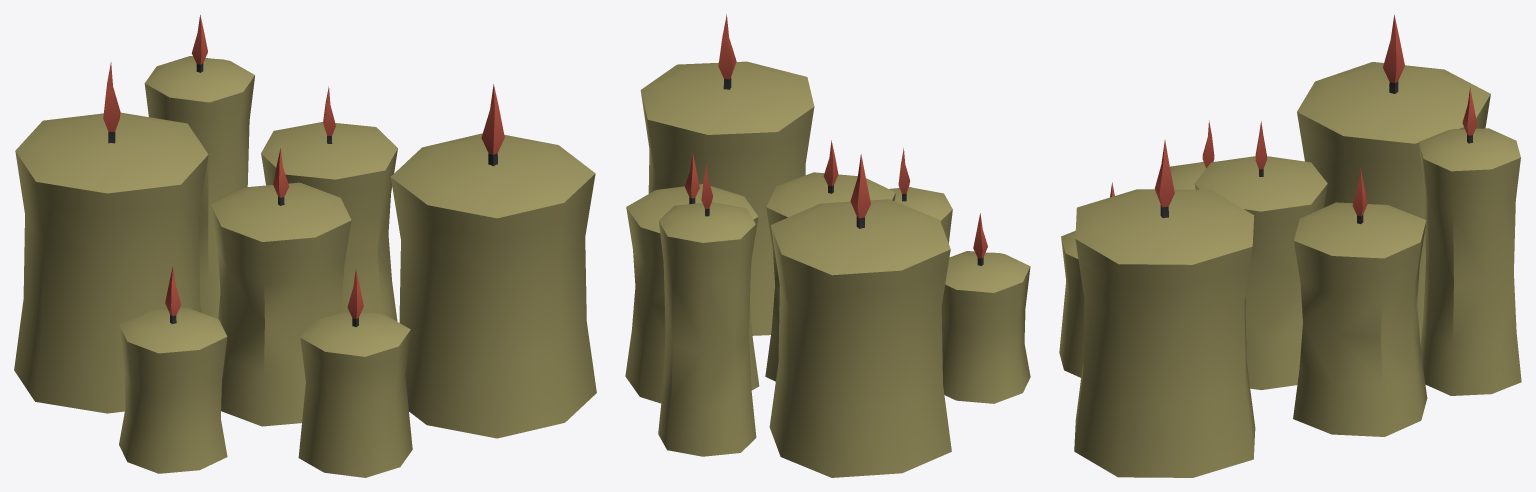
Rendered from Candles_1.glb.
The picture shows the model from 3 angles, left to right: view 1: azimuth 30°, elevation 25°; view 2: azimuth 150°, elevation 25°; view 3: azimuth 270°, elevation 25°; orthographic projection. The views are drawn at different scales.
Visible parts, largest first — view 1: Candles_1; view 2: Candles_1; view 3: Candles_1.
Boxes of the visible parts, x1,y1,x2,y2 form: Candles_1: (14,15,596,477); Candles_1: (625,14,1030,477); Candles_1: (1059,15,1521,477).
Size of the model in its own units: 0.881 by 0.6067 by 0.8436.
